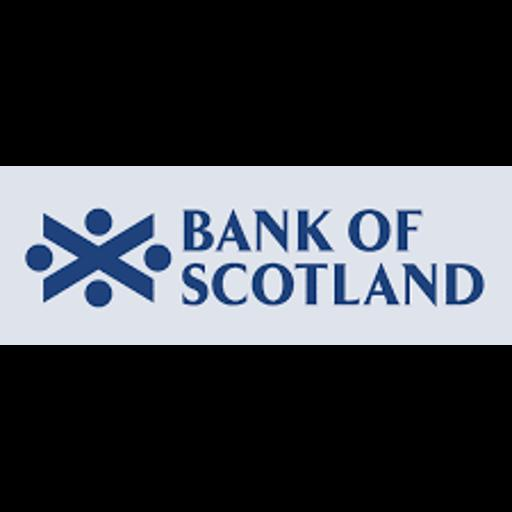Bank of Scotland: (0, 166, 512, 345)
